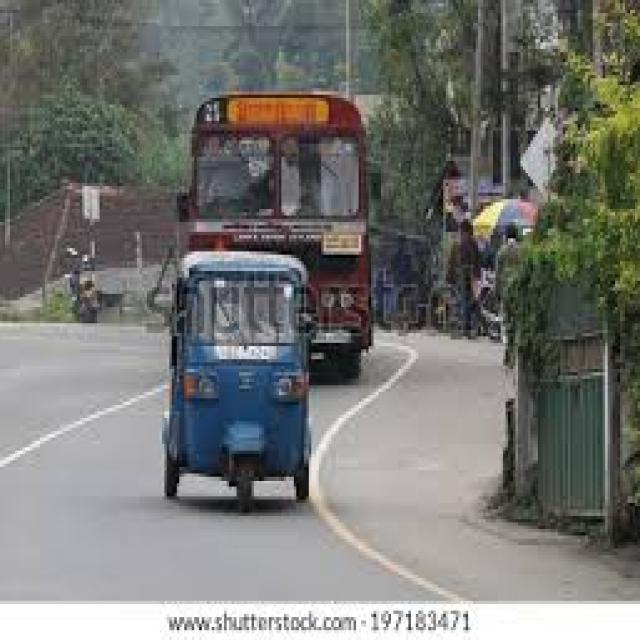bus: (170, 78, 390, 247)
tuktuk: (163, 247, 317, 515)
